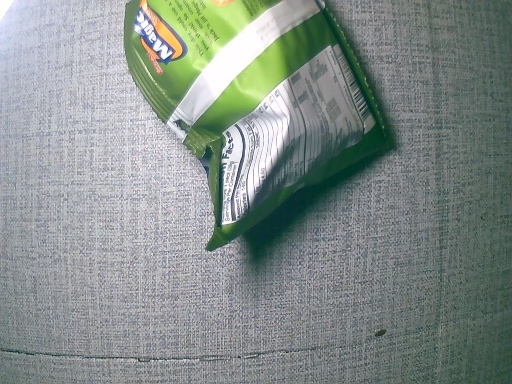plastic: (123, 1, 395, 276)
